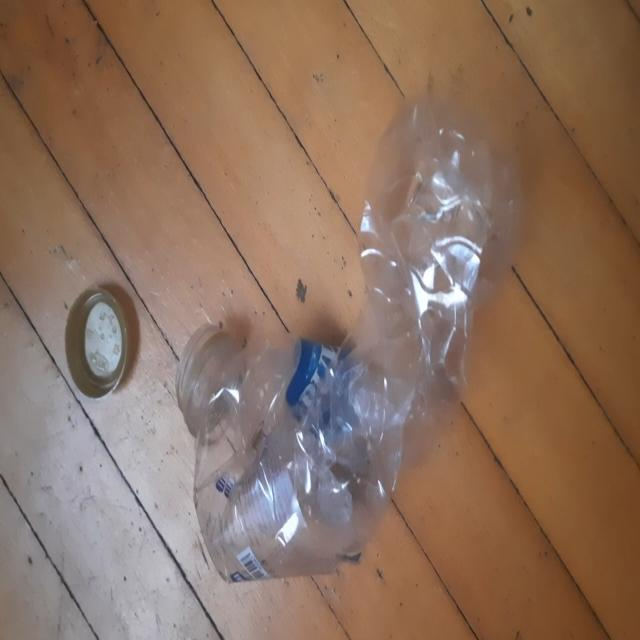Plastic: (183, 91, 520, 585)
